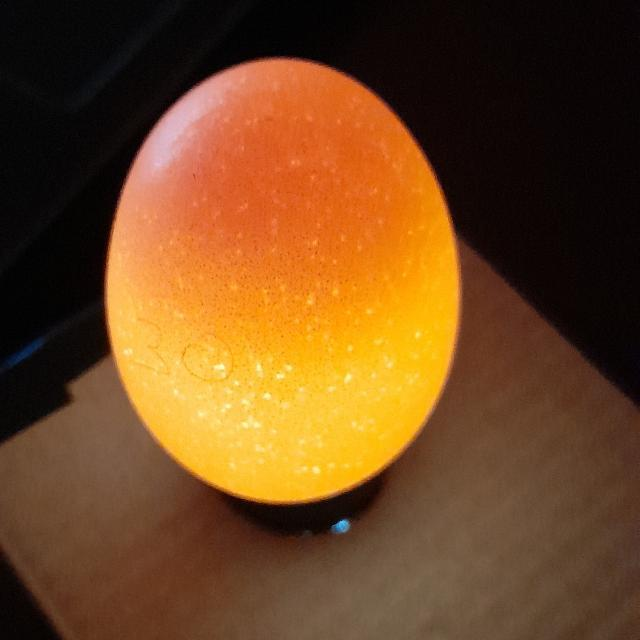Fertile: (106, 48, 474, 498)
